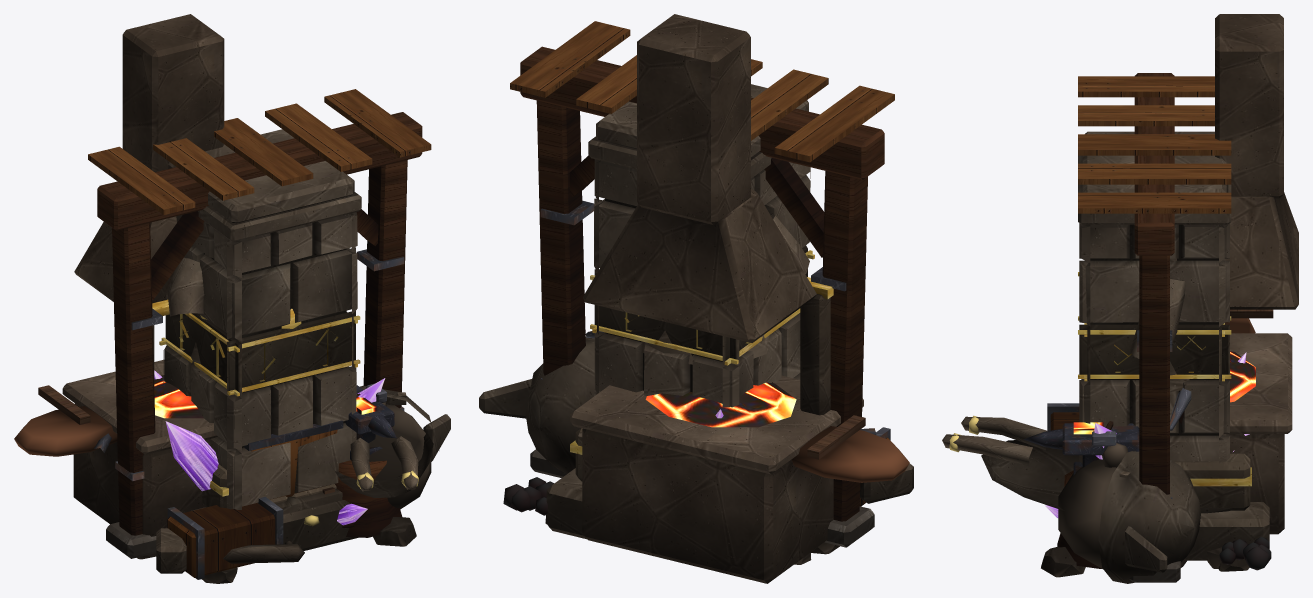
The model's file is kit_nidavellir.glb.
3 renders of one model, left to right at view 1: azimuth 30°, elevation 25°; view 2: azimuth 150°, elevation 25°; view 3: azimuth 270°, elevation 25°, orthographic. The views are drawn at different scales.
Visible parts, largest first — view 1: nidavellir_wall_mesh, nidavellir_support_beams_mesh, nidavellir_forge_mesh, nidavellir_statue_broken_mesh, nidavellir_crystal_a_mesh, nidavellir_mine_cart_mesh; view 2: nidavellir_forge_mesh, nidavellir_support_beams_mesh, nidavellir_wall_mesh, nidavellir_statue_broken_mesh; view 3: nidavellir_forge_mesh, nidavellir_statue_broken_mesh, nidavellir_wall_mesh, nidavellir_support_beams_mesh, nidavellir_ore_pile_mesh.
Part boxes in pixels (box(x1,y1,x2,y2)): nidavellir_wall_mesh: box(159, 129, 361, 513); nidavellir_support_beams_mesh: box(88, 89, 431, 558); nidavellir_forge_mesh: box(14, 14, 402, 579); nidavellir_statue_broken_mesh: box(137, 257, 450, 583); nidavellir_crystal_a_mesh: box(154, 370, 385, 525); nidavellir_mine_cart_mesh: box(244, 420, 343, 499); nidavellir_forge_mesh: box(503, 14, 909, 583); nidavellir_support_beams_mesh: box(510, 21, 894, 547); nidavellir_wall_mesh: box(588, 84, 814, 407); nidavellir_statue_broken_mesh: box(479, 213, 913, 564); nidavellir_forge_mesh: box(1023, 14, 1298, 570); nidavellir_statue_broken_mesh: box(942, 258, 1269, 583); nidavellir_wall_mesh: box(1078, 131, 1231, 511); nidavellir_support_beams_mesh: box(1078, 73, 1231, 582); nidavellir_ore_pile_mesh: box(1170, 388, 1191, 430).
Size of the model in its own units: 3.07 by 3.45 by 2.33.
Materials: 13 (9 with a texture image).
